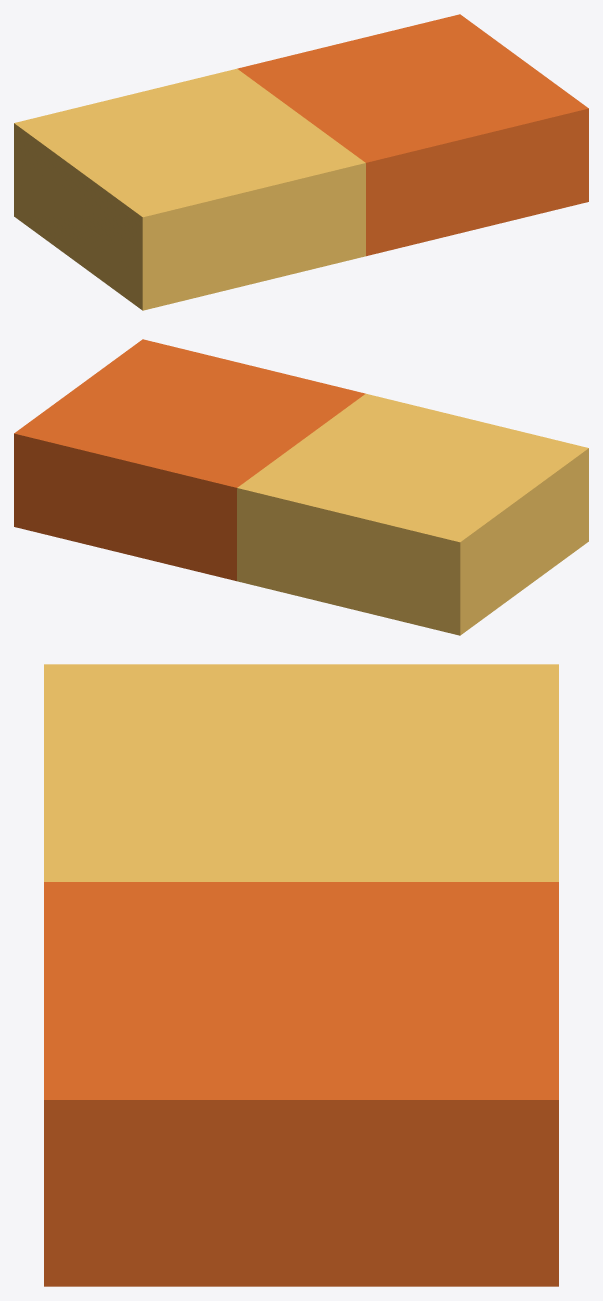
The model's file is suelo.fbx.
3 renders of one model, top to bottom at view 1: azimuth 30°, elevation 25°; view 2: azimuth 150°, elevation 25°; view 3: azimuth 270°, elevation 25°, orthographic. The views are drawn at different scales.
Parts seen in each view (by area): view 1: Box1552, Box1549; view 2: Box1552, Box1549; view 3: Box1549, Box1552.
Part boxes in pixels (<box>): Box1552: <box>14,68,365,310</box>; Box1549: <box>237,14,588,256</box>; Box1552: <box>237,393,588,635</box>; Box1549: <box>14,339,365,581</box>; Box1549: <box>44,882,558,1286</box>; Box1552: <box>44,664,558,881</box>.
Size of the model in its own units: 19.68 by 3.94 by 9.84.
